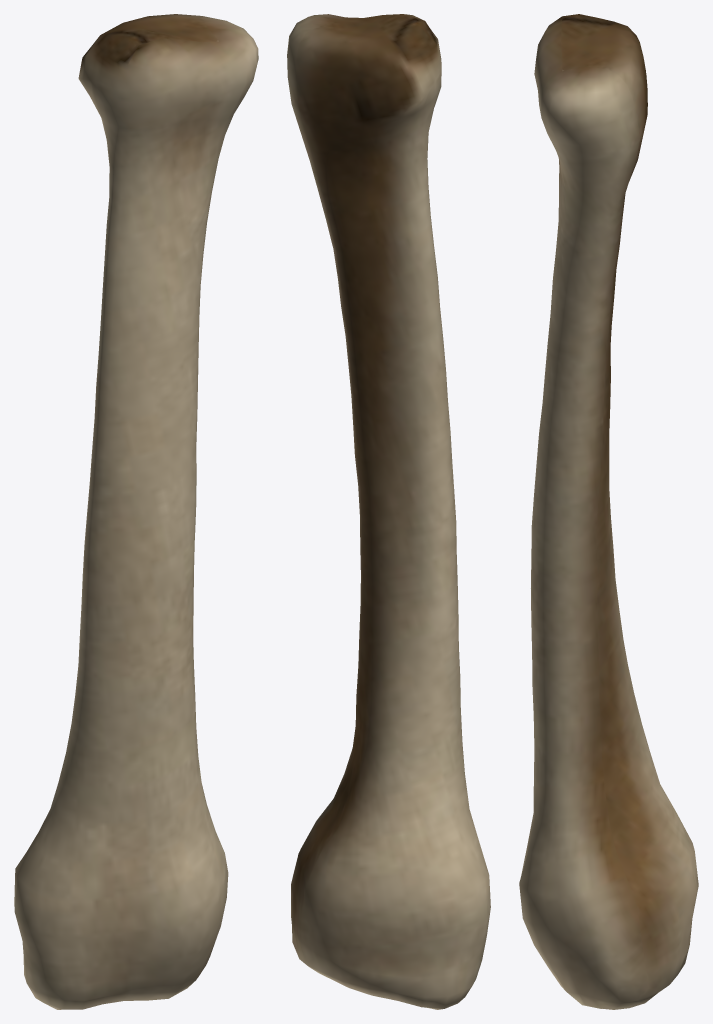
The model's file is Radius.glb.
The picture shows the model from 3 angles, left to right: view 1: azimuth 30°, elevation 25°; view 2: azimuth 150°, elevation 25°; view 3: azimuth 270°, elevation 25°; orthographic projection. The views are drawn at different scales.
Parts seen in each view (by area): view 1: polySurface3; view 2: polySurface3; view 3: polySurface3.
Boxes of the visible parts, left/top/right/bottom form: polySurface3: left=14, top=14, right=258, bottom=1009; polySurface3: left=287, top=14, right=490, bottom=1009; polySurface3: left=519, top=14, right=698, bottom=1009.
Size of the model in its own units: 25.44 by 111 by 18.67.
1 material, 1 textured.
